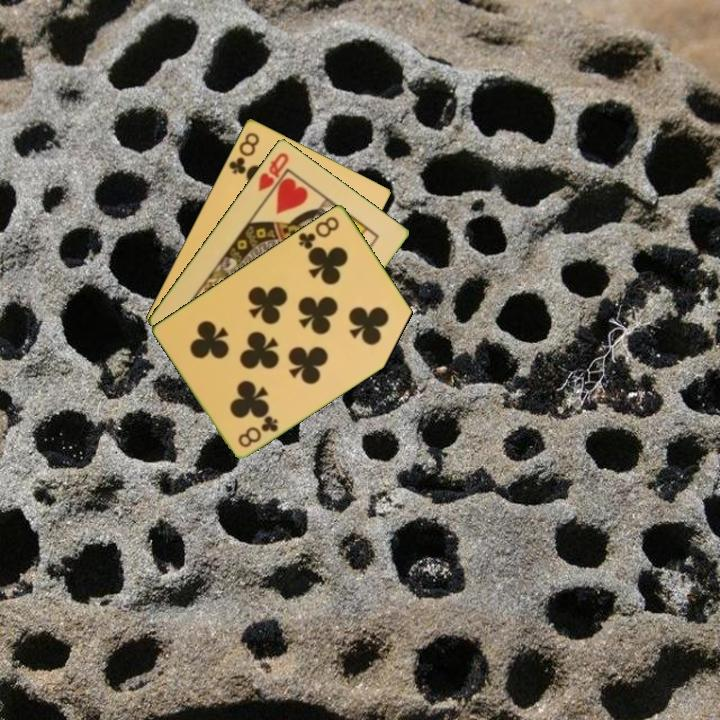8c: (295, 212, 342, 254), (225, 128, 262, 177), (234, 412, 281, 450)
Qh: (254, 149, 292, 194)
